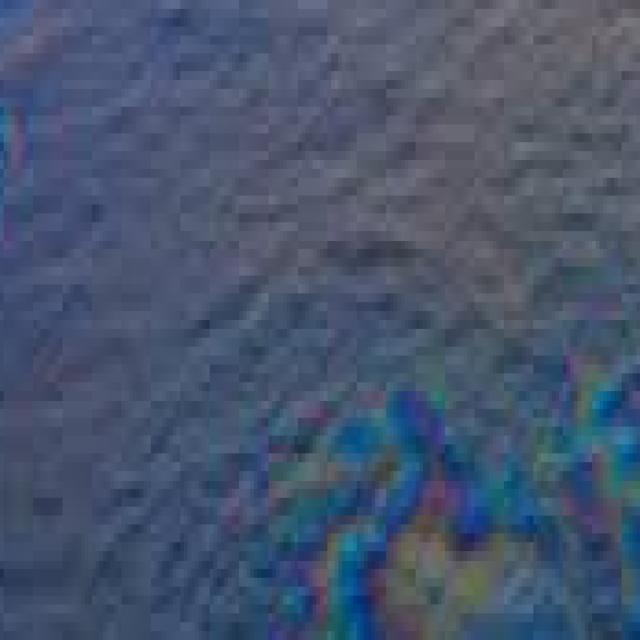-: (0, 0, 640, 640), (0, 0, 474, 640)
